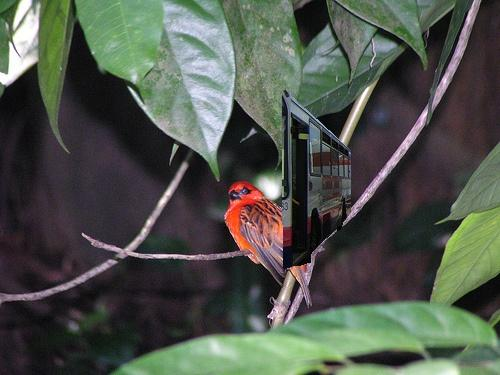tampered: (283, 88, 351, 269)
